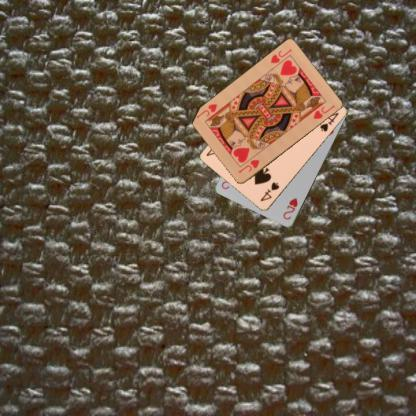2h: (280, 196, 298, 222)
4s: (258, 180, 280, 202)
Jh: (268, 46, 293, 65), (236, 157, 260, 175)
